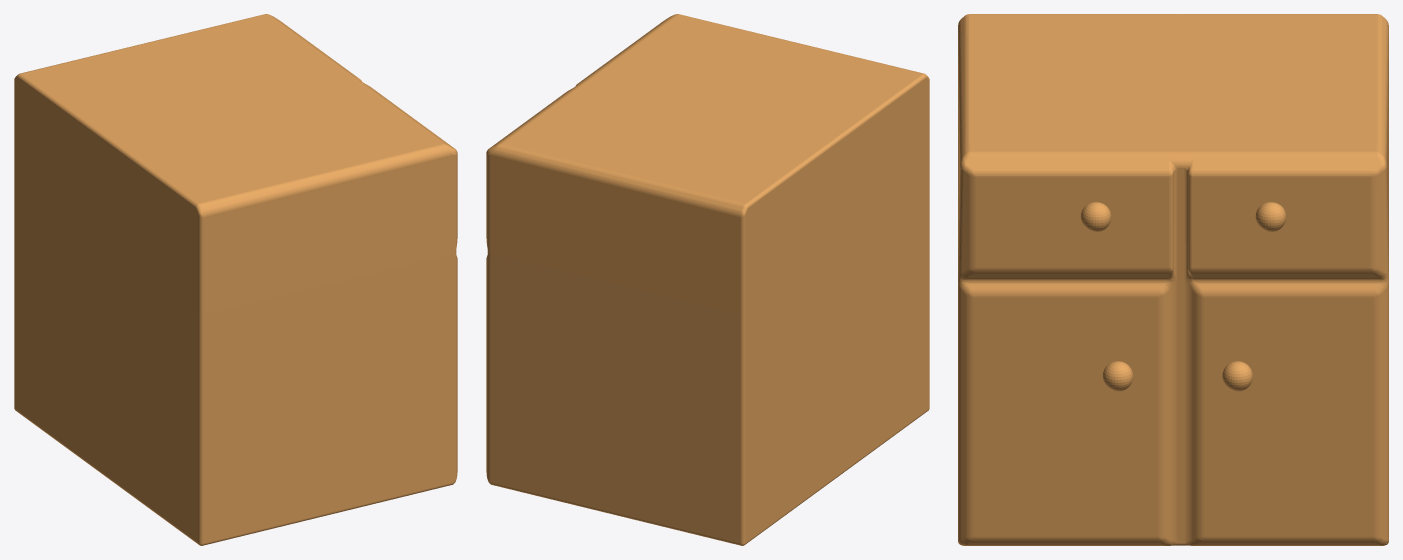
The model's file is NormalCupboard.fbx.
The picture shows the model from 3 angles, left to right: view 1: azimuth 30°, elevation 25°; view 2: azimuth 150°, elevation 25°; view 3: azimuth 270°, elevation 25°; orthographic projection. The views are drawn at different scales.
Visible parts, largest first — view 1: Cube.003; view 2: Cube.003; view 3: Cube.003.
Part boxes in pixels (x1=…): Cube.003: x1=14, y1=14, x2=457, y2=545; Cube.003: x1=486, y1=14, x2=929, y2=545; Cube.003: x1=958, y1=14, x2=1388, y2=545.
Size of the model in its own units: 126 by 147 by 147.
